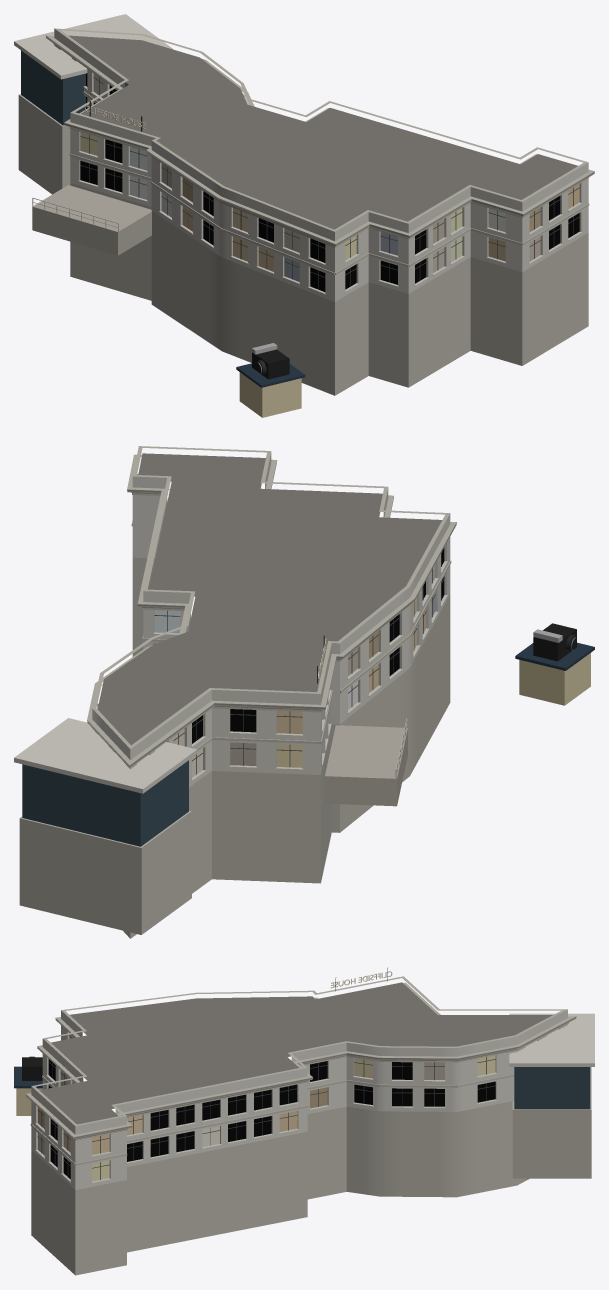
File: cliffHouse_lod0.glb
3 views of the same model, one above another, from view 1: azimuth 30°, elevation 25°; view 2: azimuth 150°, elevation 25°; view 3: azimuth 270°, elevation 25° (orthographic). The views are drawn at different scales.
Visible parts, largest first — view 1: L0_concrete, L0_roof, L0_win, L0_glassc, L0_paint, L0_stucco, L0_metal; view 2: L0_concrete, L0_roof, L0_glassc, L0_win, L0_stucco, L0_paint, L0_metal; view 3: L0_concrete, L0_roof, L0_win, L0_glassc, L0_metal, L0_paint, L0_stucco.
Part boxes in pixels (left/top/right/bottom): L0_concrete: left=14, top=14, right=594, bottom=395; L0_roof: left=69, top=35, right=577, bottom=229; L0_win: left=80, top=73, right=579, bottom=291; L0_glassc: left=21, top=50, right=261, bottom=373; L0_paint: left=32, top=198, right=305, bottom=387; L0_stucco: left=239, top=372, right=301, bottom=417; L0_metal: left=80, top=76, right=579, bottom=289; L0_concrete: left=14, top=446, right=456, bottom=938; L0_roof: left=97, top=453, right=442, bottom=745; L0_glassc: left=22, top=637, right=575, bottom=846; L0_win: left=154, top=548, right=444, bottom=777; L0_stucco: left=519, top=653, right=590, bottom=705; L0_paint: left=395, top=623, right=594, bottom=778; L0_metal: left=154, top=517, right=444, bottom=774; L0_concrete: left=25, top=976, right=594, bottom=1275; L0_roof: left=40, top=982, right=552, bottom=1124; L0_win: left=38, top=1034, right=495, bottom=1181; L0_glassc: left=514, top=1067, right=590, bottom=1109; L0_metal: left=37, top=968, right=495, bottom=1179; L0_paint: left=14, top=1056, right=42, bottom=1088; L0_stucco: left=16, top=1088, right=42, bottom=1115.
Size of the model in its own units: 52.41 by 22.68 by 73.33.
